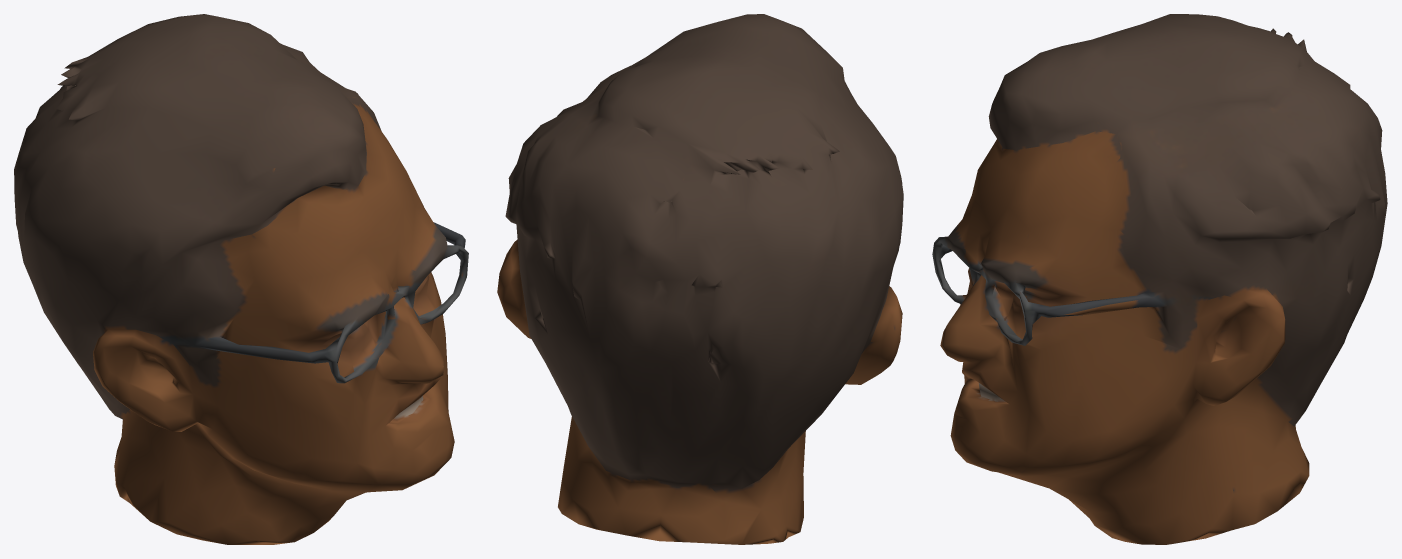
Rendered from hawking-head-generated.glb.
The picture shows the model from 3 angles, left to right: view 1: azimuth 30°, elevation 25°; view 2: azimuth 150°, elevation 25°; view 3: azimuth 270°, elevation 25°; orthographic projection. The views are drawn at different scales.
Bounding box in the file's own units: 0.5771 × 0.7334 × 0.6489.
1 material, 1 textured.
